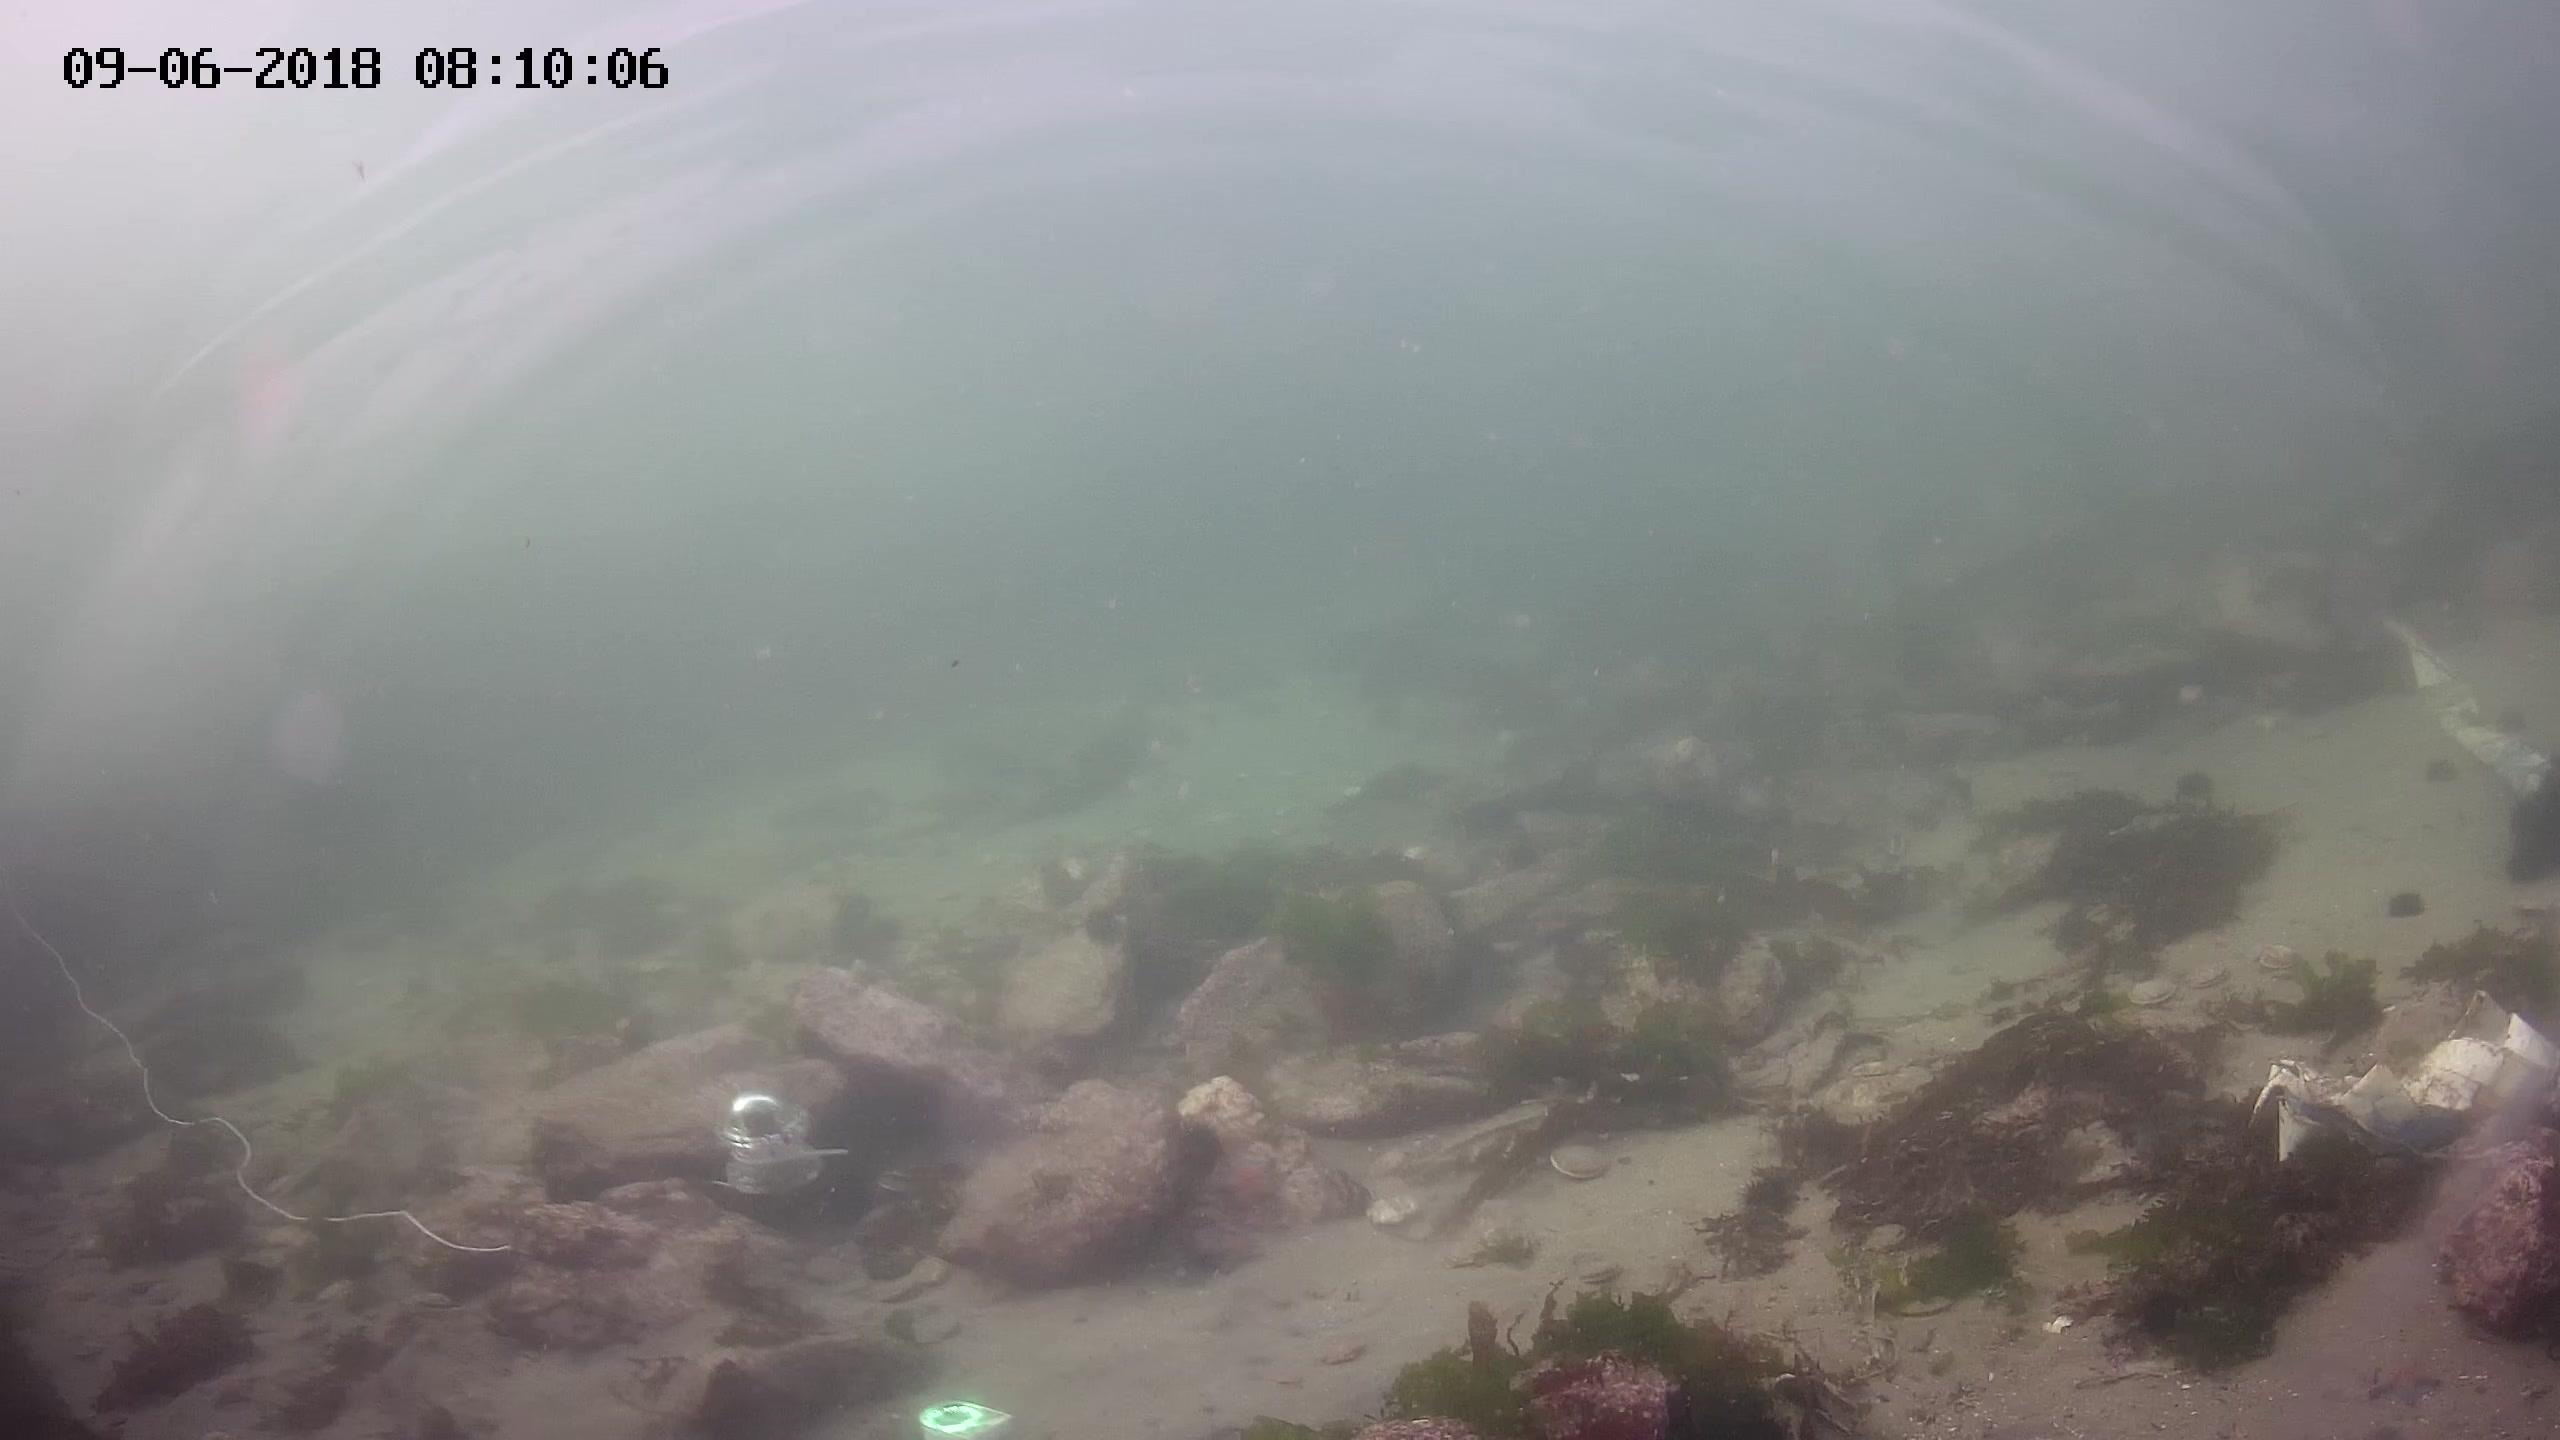scallop: (1547, 1132, 1619, 1187), (1366, 1190, 1422, 1234), (1308, 1333, 1380, 1363), (2122, 971, 2170, 1007), (1579, 1252, 1626, 1289), (2252, 937, 2298, 971), (2184, 951, 2222, 986)
starfish: (2358, 1343, 2446, 1407), (1217, 1157, 1284, 1203)
